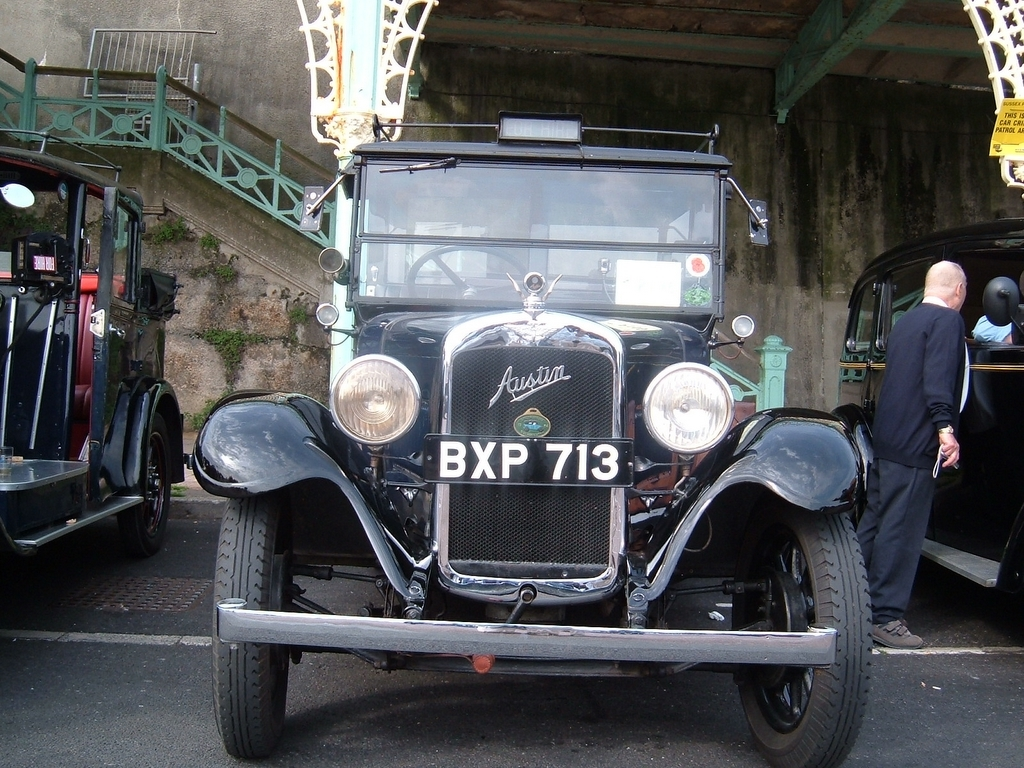Car: (186, 115, 869, 767), (826, 213, 1022, 633), (0, 146, 179, 551)
